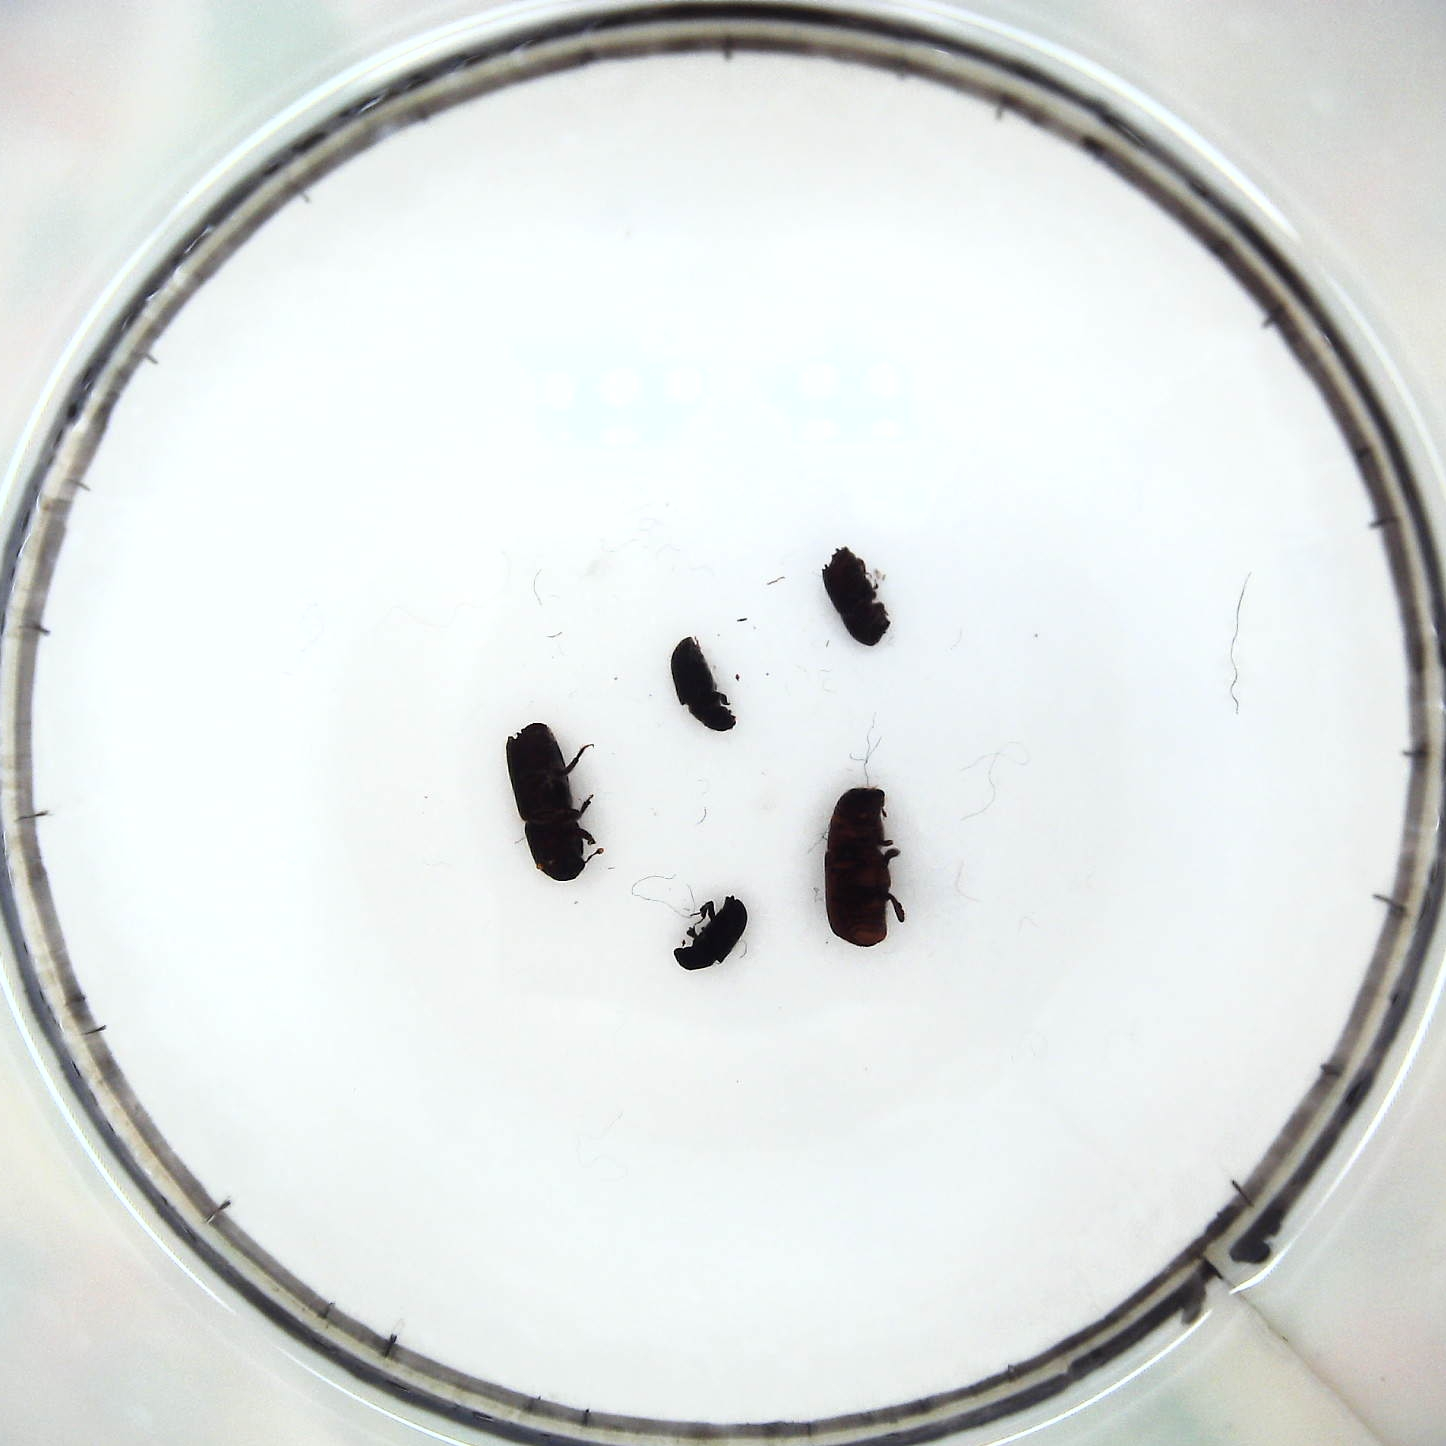Boerner: (505, 720, 593, 882)
Leconte: (824, 779, 902, 951)
Linnaeus: (821, 548, 892, 648)
armandi: (666, 634, 736, 734)
coleoptera: (677, 894, 748, 971)
